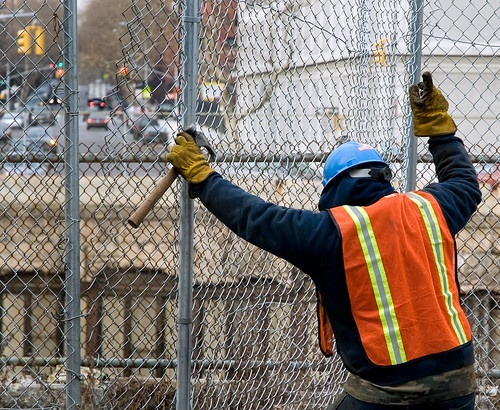hammer: (121, 127, 216, 229)
